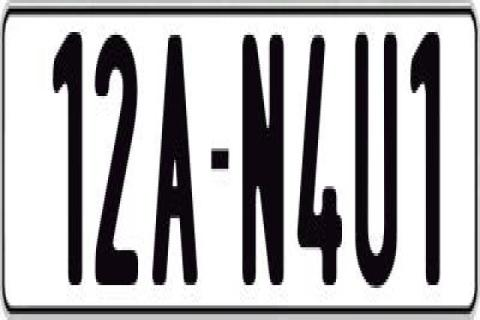0: (294, 35, 346, 285), (94, 29, 136, 294), (51, 29, 83, 294), (410, 26, 440, 282)
A: (152, 32, 198, 288)
N: (242, 29, 284, 288)
U: (356, 27, 402, 297)
